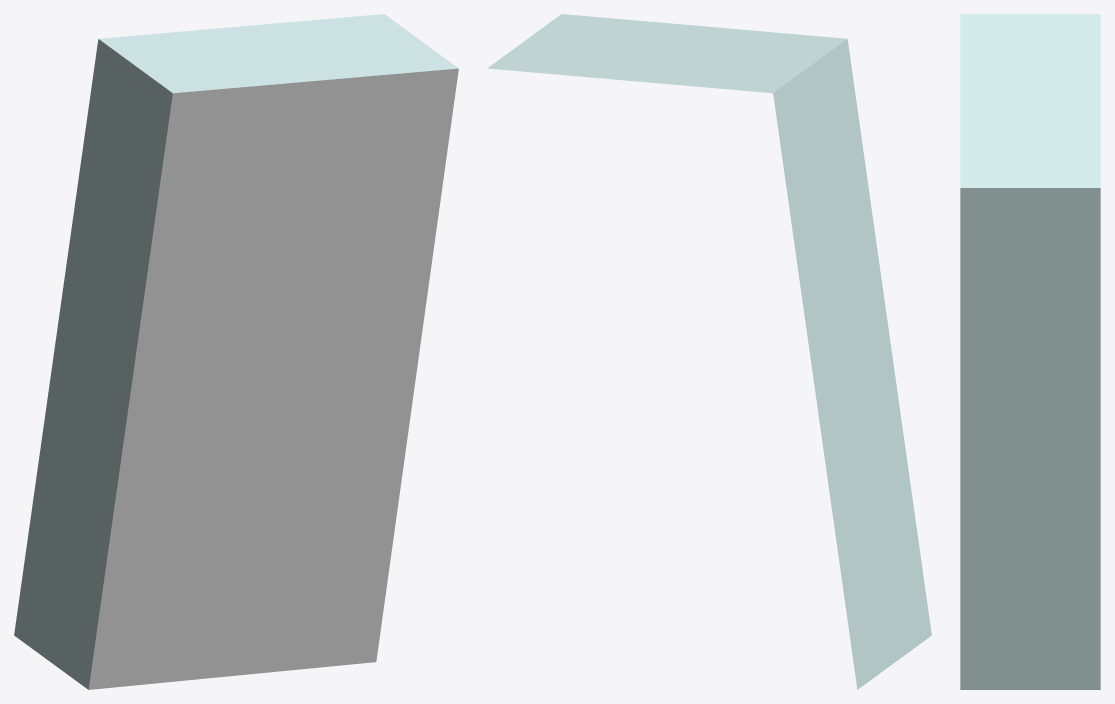
The picture shows the model from 3 angles, left to right: view 1: azimuth 30°, elevation 25°; view 2: azimuth 150°, elevation 25°; view 3: azimuth 270°, elevation 25°; orthographic projection. The views are drawn at different scales.
Visible parts, largest first — view 1: 0_3_2_2_1_2_2_2_3; view 2: 0_3_2_2_1_2_2_2_3; view 3: 0_3_2_2_1_2_2_2_3.
Part boxes in pixels (x1=…): 0_3_2_2_1_2_2_2_3: x1=14, y1=14, x2=458, y2=689; 0_3_2_2_1_2_2_2_3: x1=487, y1=14, x2=931, y2=689; 0_3_2_2_1_2_2_2_3: x1=960, y1=14, x2=1100, y2=689.
Size of the model in its own units: 8.61 by 13.74 by 3.
